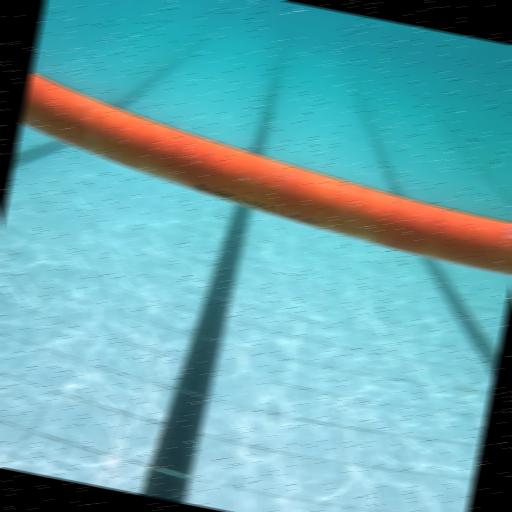upper_gate: (9, 70, 512, 274)
